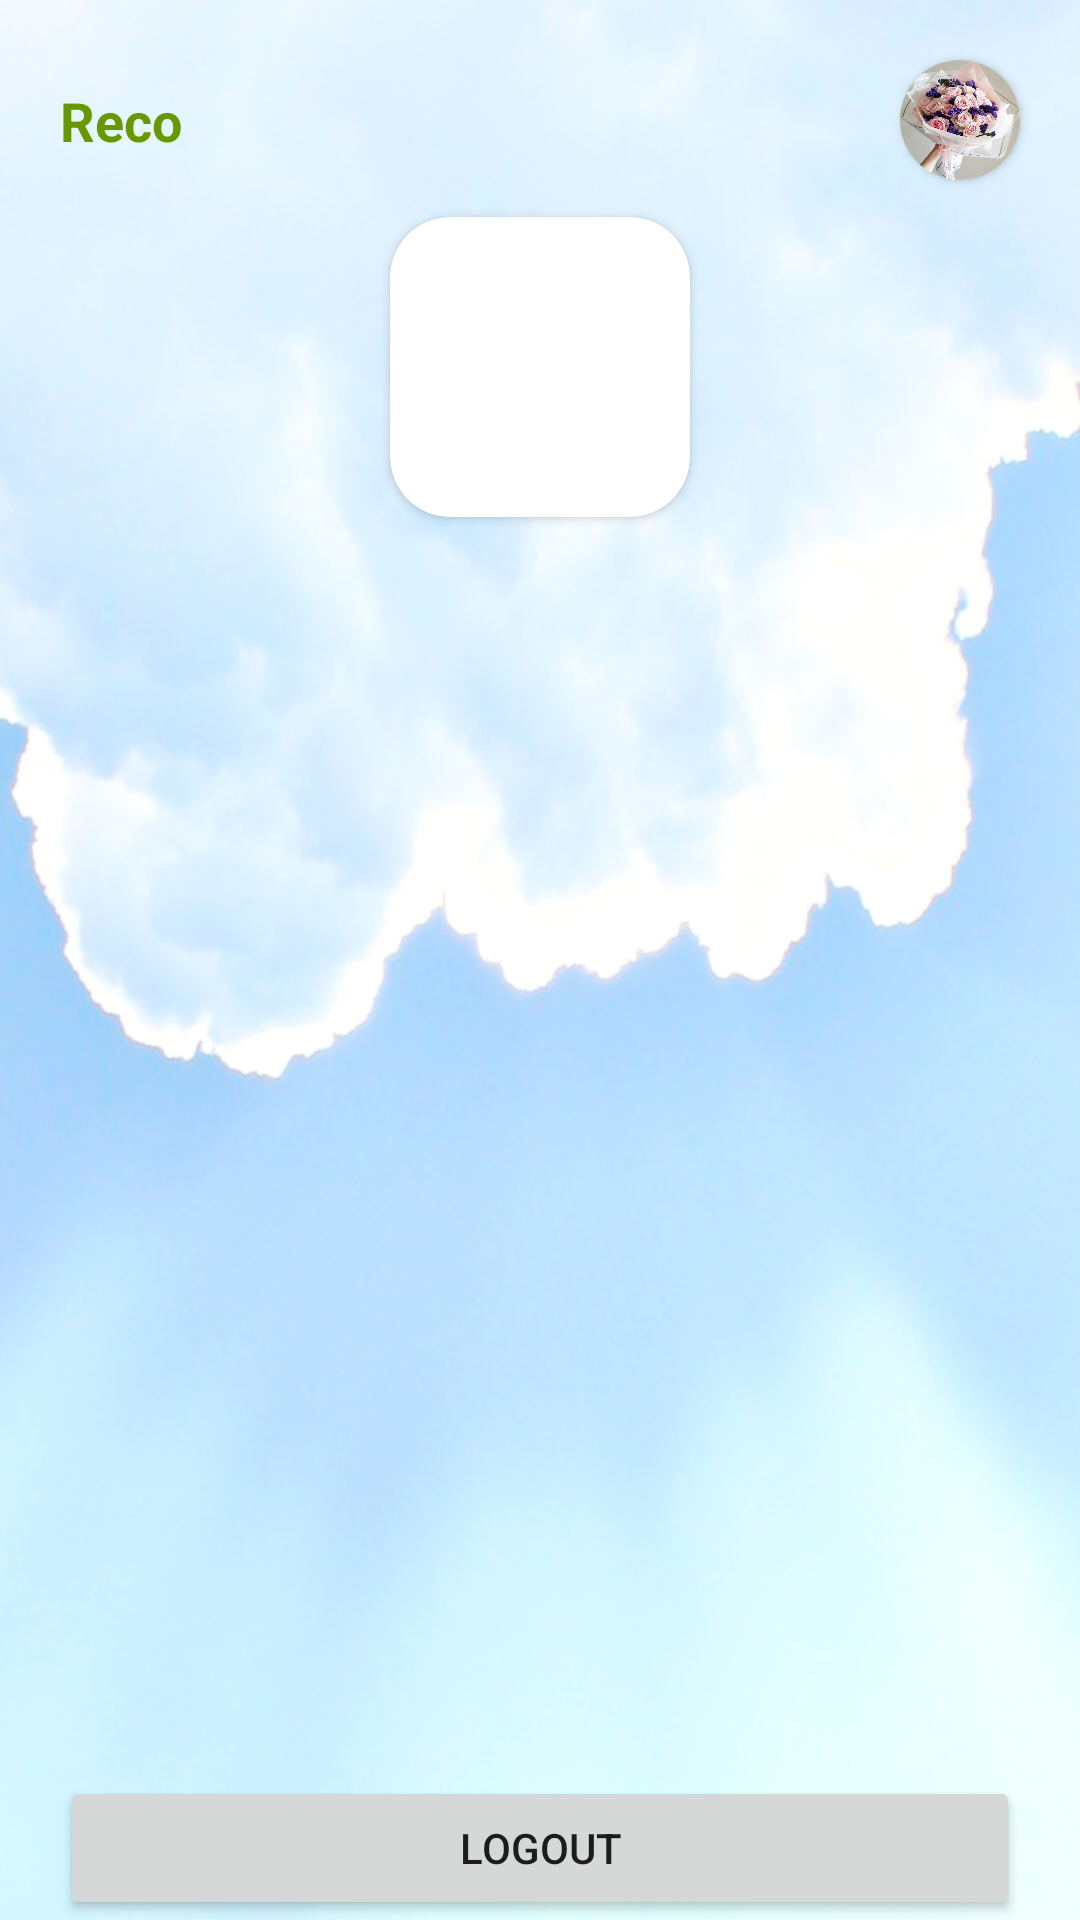

Screen size 1080 x 1920. Icon name, then its center in pixels as (x=x, y=y):
handbouqet: (x=960, y=120)
